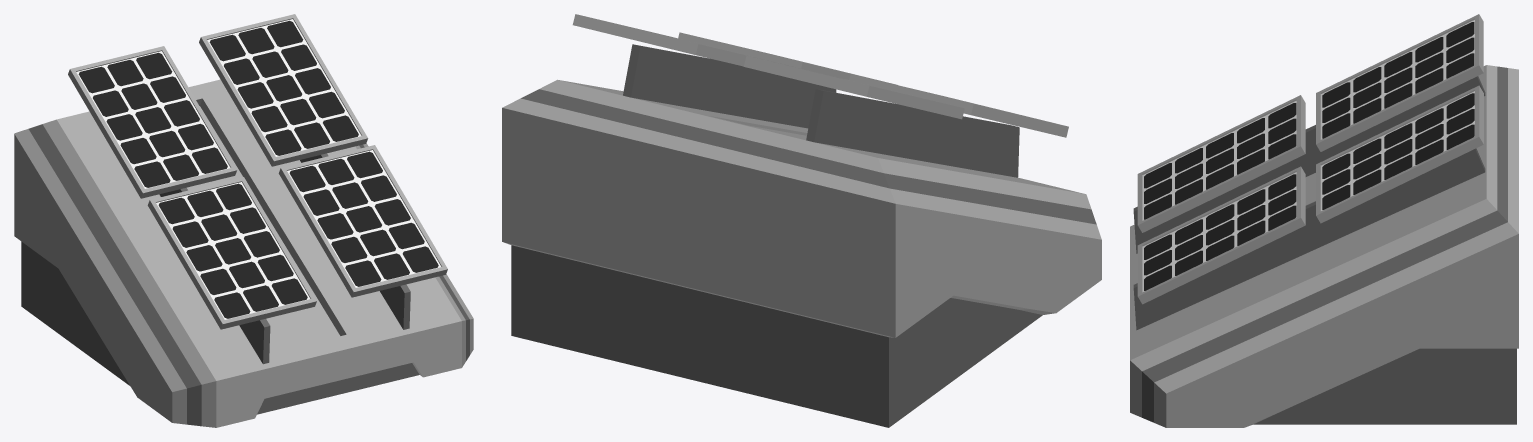
The model's file is solar-panel-structure.glb.
3 views of the same model, side by side, from view 1: azimuth 30°, elevation 25°; view 2: azimuth 150°, elevation 25°; view 3: azimuth 270°, elevation 25° (orthographic). The views are drawn at different scales.
Visible parts, largest first — view 1: SolarPanel_Structure; view 2: SolarPanel_Structure; view 3: SolarPanel_Structure.
Part boxes in pixels (box(x1,y1,x2,y2)): SolarPanel_Structure: box(14, 14, 473, 427); SolarPanel_Structure: box(502, 14, 1101, 427); SolarPanel_Structure: box(1130, 14, 1518, 427).
Size of the model in its own units: 4 by 3.07 by 4.
Materials: 1 (1 with a texture image).
